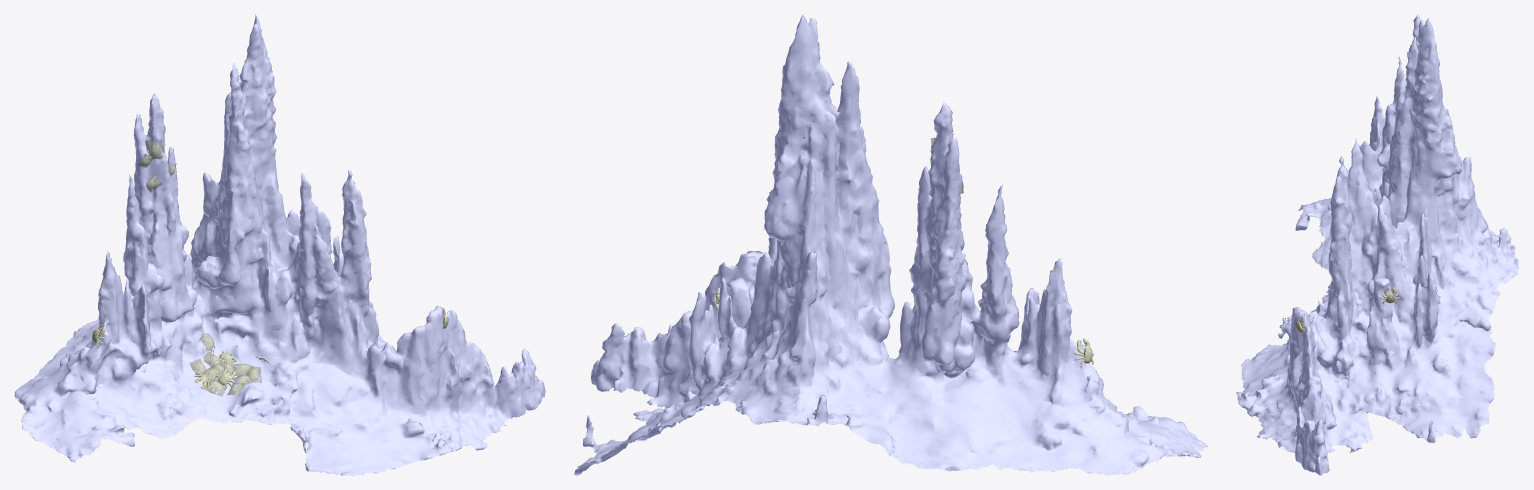
The model's file is staticscene.gltf.
3 renders of one model, left to right at view 1: azimuth 30°, elevation 25°; view 2: azimuth 150°, elevation 25°; view 3: azimuth 270°, elevation 25°, orthographic. The views are drawn at different scales.
Visible parts, largest first — view 1: vent_top1; view 2: vent_top1; view 3: vent_top1.
Boxes of the visible parts, bbox=[...] form: vent_top1: bbox=[14, 14, 545, 475]; vent_top1: bbox=[574, 14, 1207, 475]; vent_top1: bbox=[1236, 14, 1519, 475].
Bounding box in the file's own units: 22.85 × 17.31 × 12.27.
